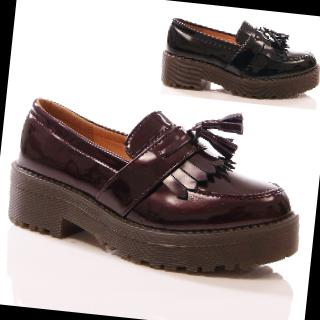loafers: (0, 90, 314, 286), (151, 11, 320, 110)
